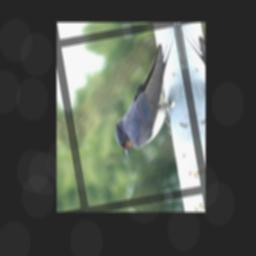Swallow: (99, 27, 197, 159)
